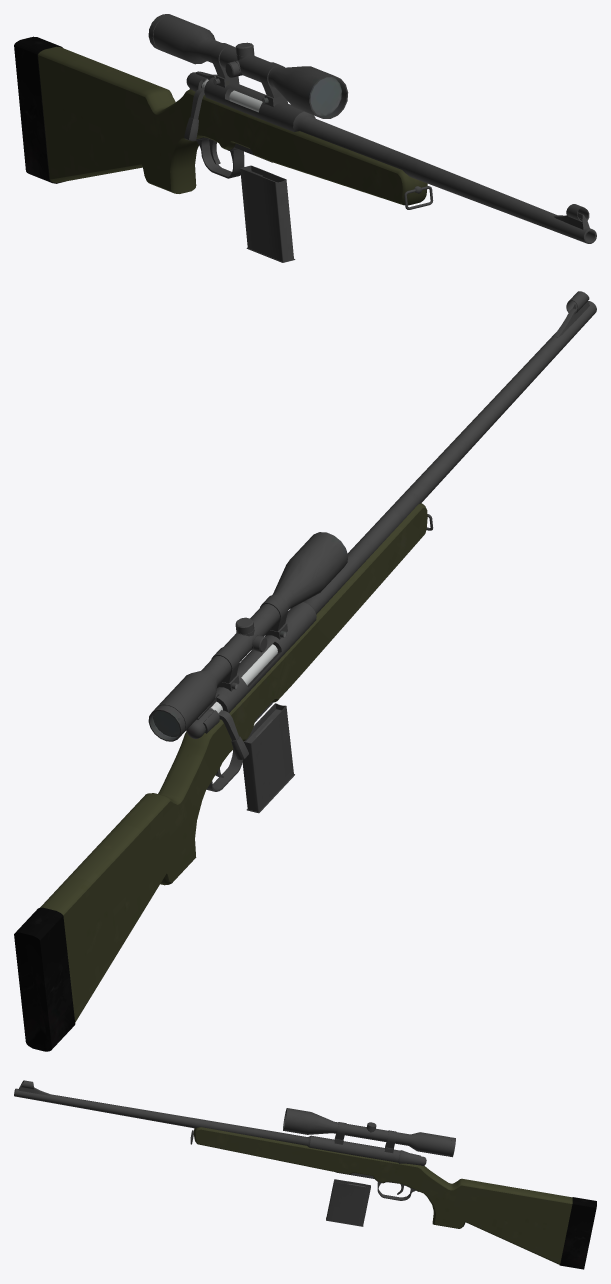
File: weapon_sniper.glb
The picture shows the model from 3 angles, top to bottom: view 1: azimuth 30°, elevation 25°; view 2: azimuth 150°, elevation 25°; view 3: azimuth 270°, elevation 25°; orthographic projection. The views are drawn at different scales.
Visible parts, largest first — view 1: Stock, Barrel, Scope, Magazine, Bolt, IronSight; view 2: Stock, Barrel, Scope, Magazine, Bolt; view 3: Stock, Barrel, Scope, Magazine.
Part boxes in pixels (x1=…): Stock: x1=14, y1=36, x2=427, y2=205; Barrel: x1=188, y1=71, x2=596, y2=243; Scope: x1=148, y1=14, x2=348, y2=118; Magazine: x1=240, y1=165, x2=295, y2=262; Bolt: x1=184, y1=72, x2=262, y2=141; IronSight: x1=553, y1=204, x2=589, y2=229; Stock: x1=14, y1=503, x2=427, y2=1051; Barrel: x1=197, y1=301, x2=596, y2=791; Scope: x1=148, y1=532, x2=348, y2=741; Magazine: x1=242, y1=703, x2=294, y2=813; Bolt: x1=186, y1=644, x2=277, y2=759; Stock: x1=193, y1=1127, x2=596, y2=1269; Barrel: x1=14, y1=1088, x2=420, y2=1200; Scope: x1=283, y1=1108, x2=455, y2=1157; Magazine: x1=326, y1=1179, x2=370, y2=1226.
Bounding box in the file's own units: 0.0568 × 0.3966 × 1.12.
Materials: 1 (1 with a texture image).
